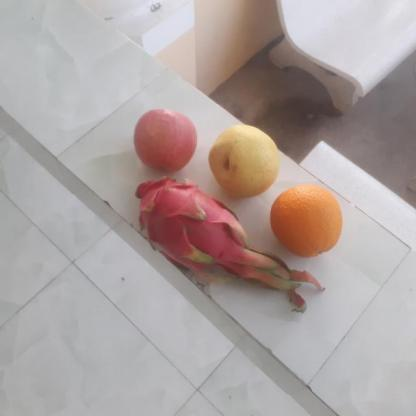apple: (130, 109, 198, 172)
orange: (268, 184, 344, 257)
pear: (205, 125, 283, 197)
pitaya: (132, 178, 238, 265)
